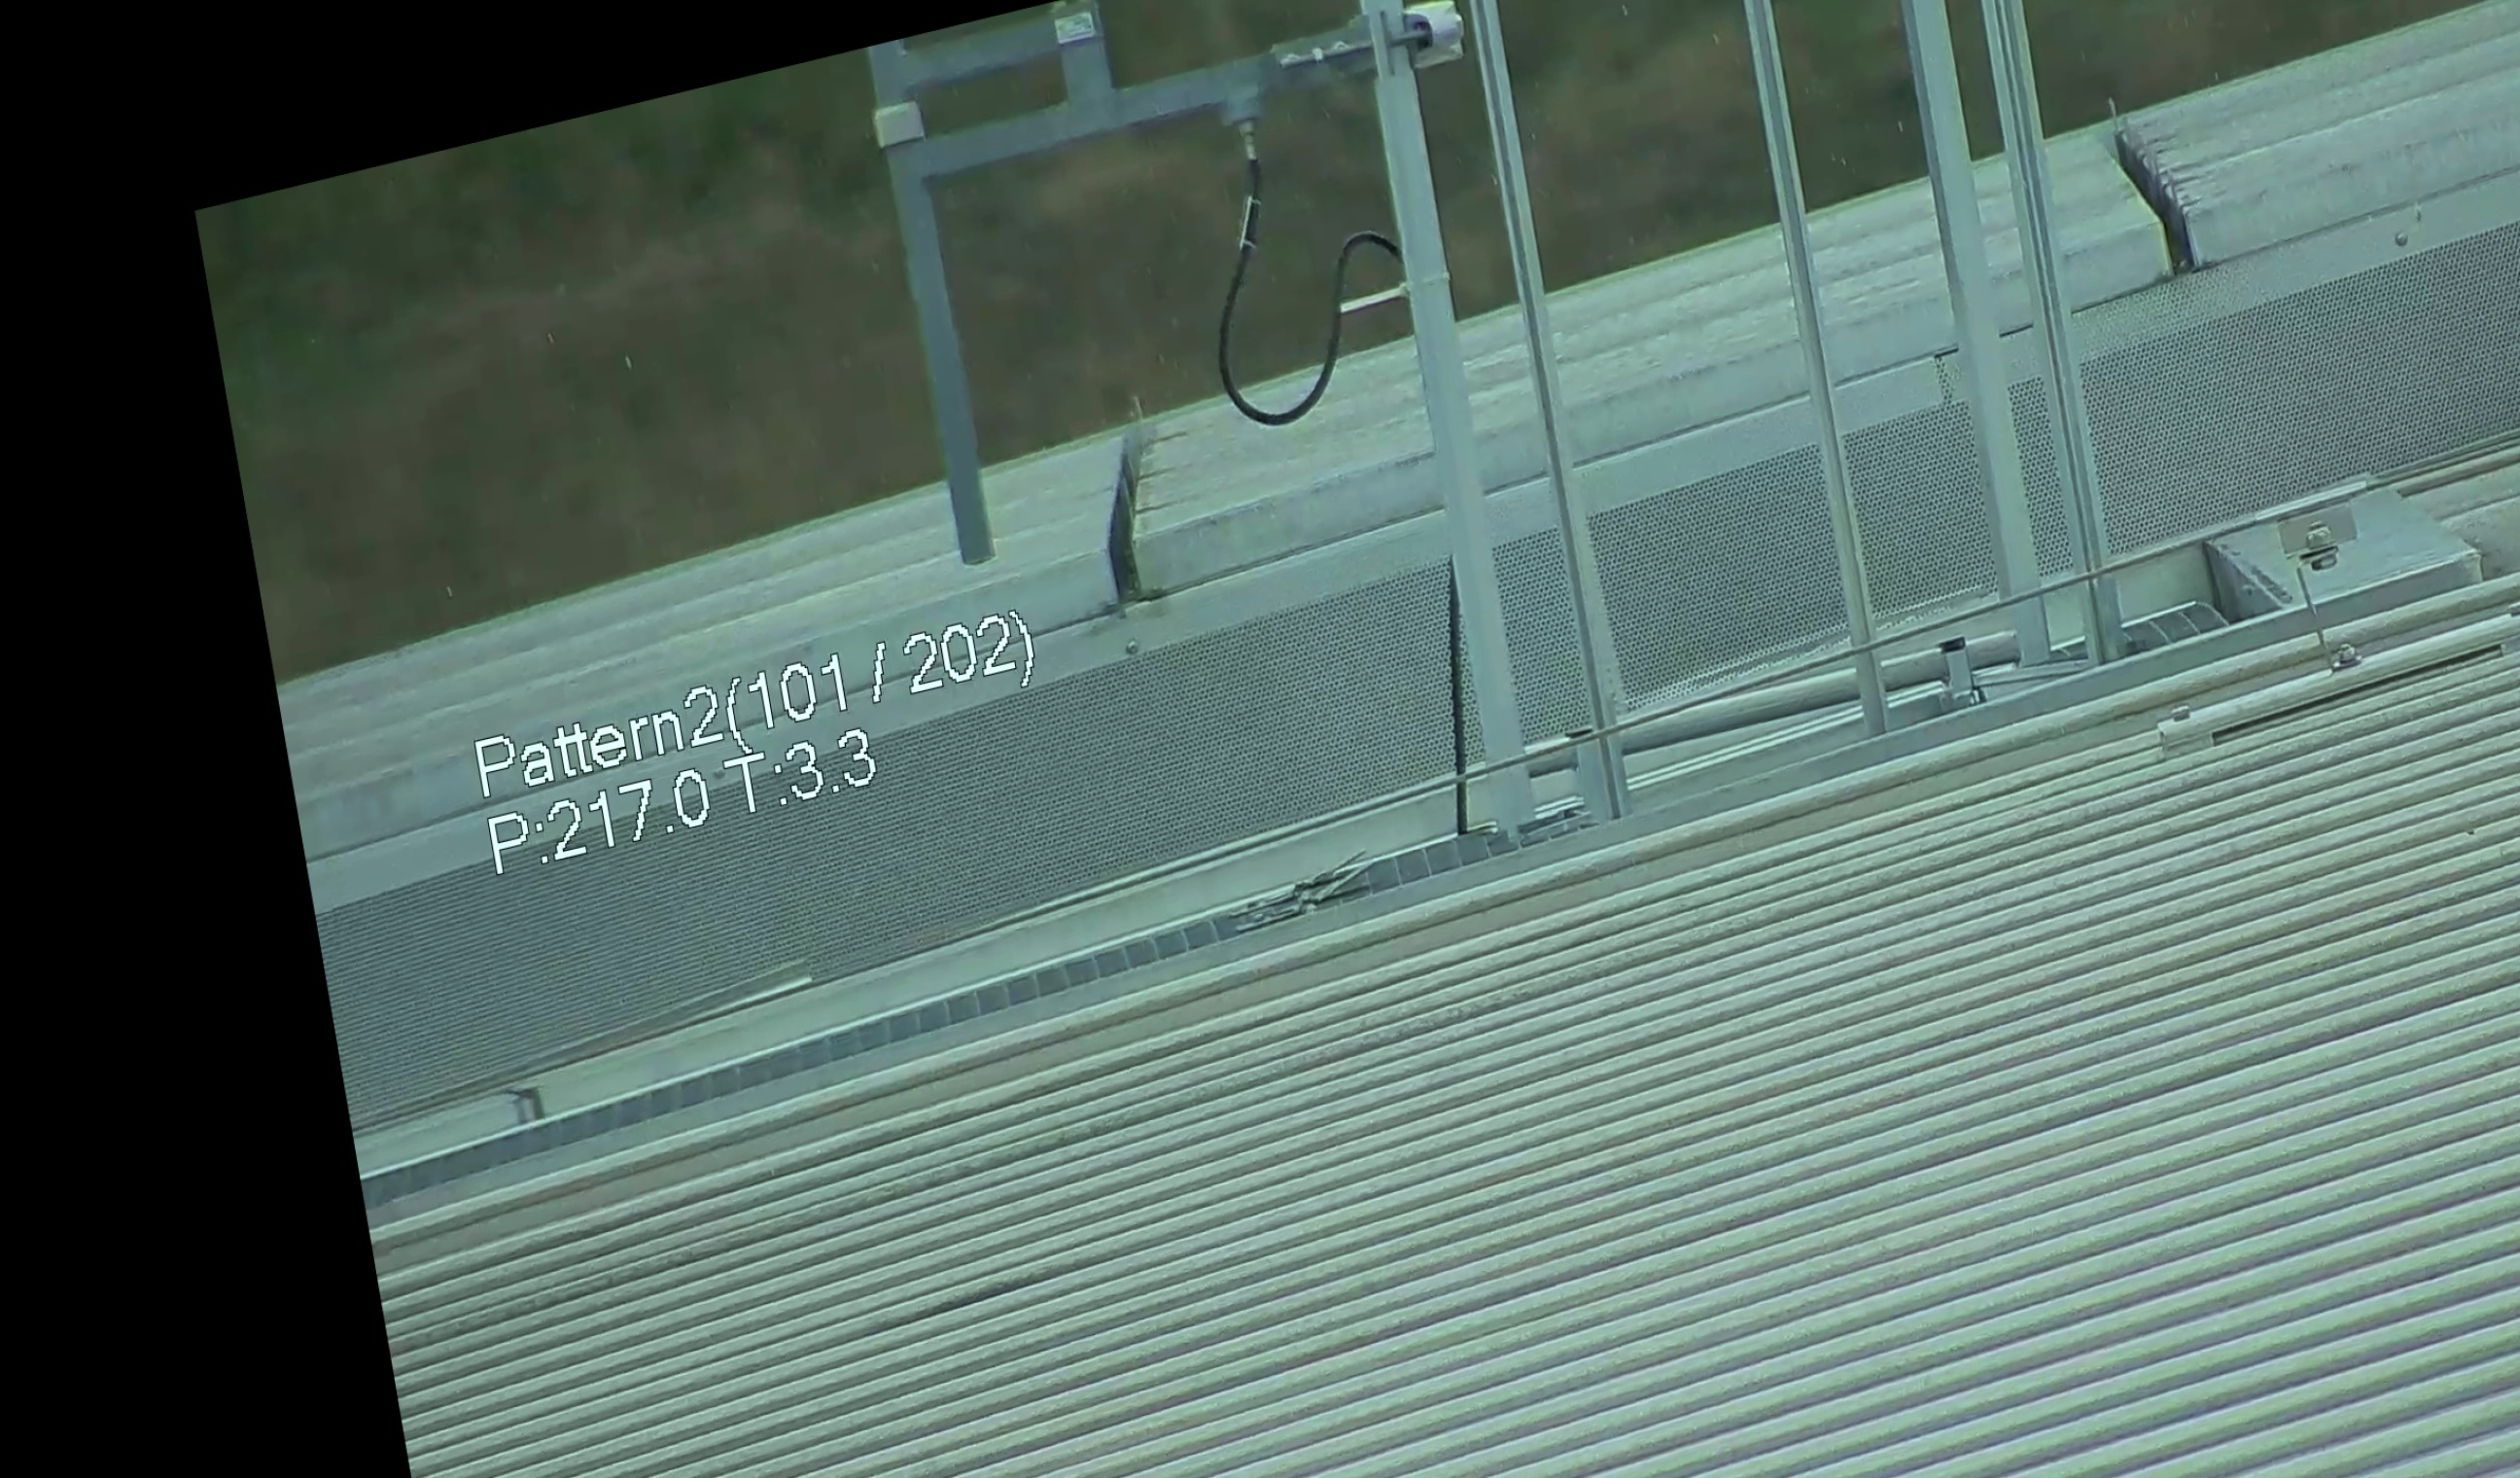Other: (2072, 60, 2235, 304)
